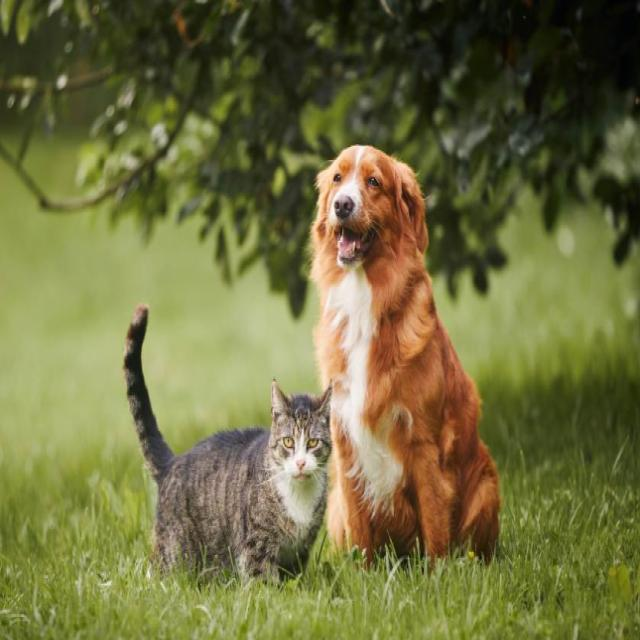cats: (117, 316, 334, 598)
dogs: (318, 145, 522, 582)
